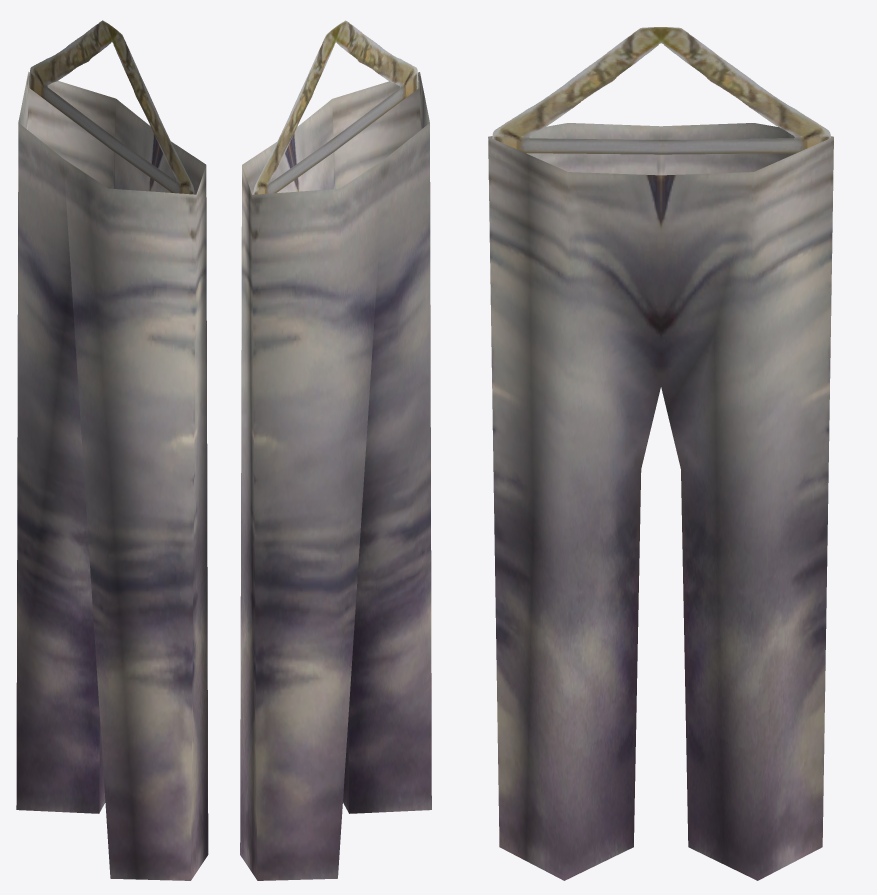
Rendered from hangingpantsgrey.obj.
3 views of the same model, side by side, from view 1: azimuth 30°, elevation 25°; view 2: azimuth 150°, elevation 25°; view 3: azimuth 270°, elevation 25° (orthographic). The views are drawn at different scales.
Visible parts, largest first — view 1: hangingpantsgrey; view 2: hangingpantsgrey; view 3: hangingpantsgrey.
Part boxes in pixels (left/top/right/bottom): hangingpantsgrey: left=16, top=20, right=208, bottom=880; hangingpantsgrey: left=240, top=20, right=431, bottom=880; hangingpantsgrey: left=488, top=27, right=833, bottom=880.
Bounding box in the file's own units: 0.1583 × 1.27 × 0.5466.
Materials: 1 (1 with a texture image).
